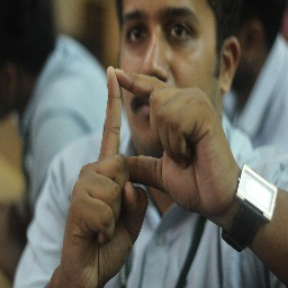D: (86, 62, 184, 196)
